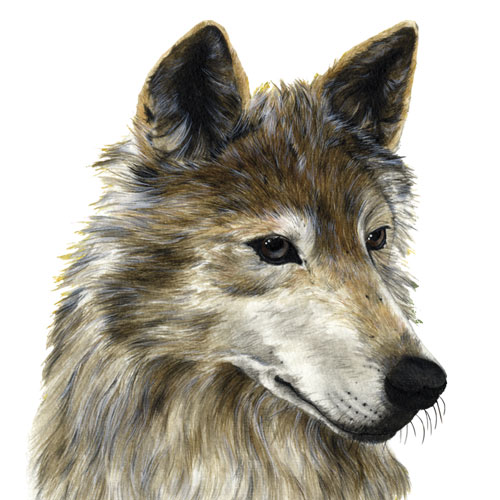Lobo: (56, 14, 462, 490)
